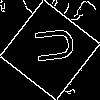U: (25, 25, 75, 66)
